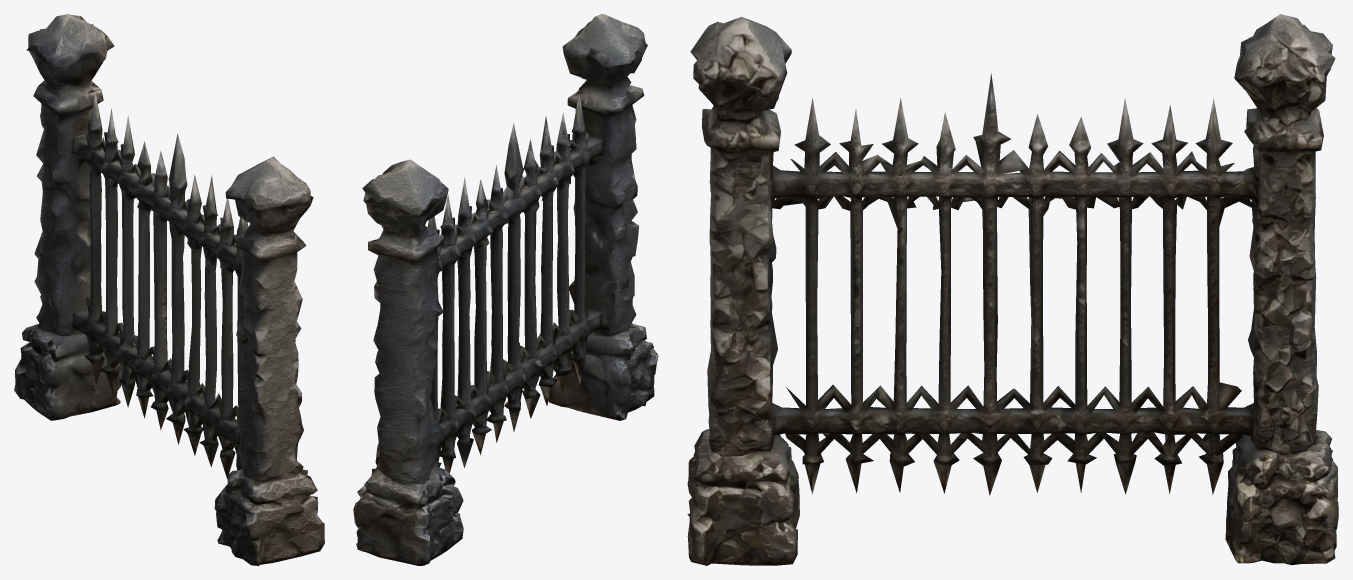
The model's file is fence.glb.
3 views of the same model, side by side, from view 1: azimuth 30°, elevation 25°; view 2: azimuth 150°, elevation 25°; view 3: azimuth 270°, elevation 25° (orthographic). The views are drawn at different scales.
Parts seen in each view (by area): view 1: tripo_node_da8fdb1d-d20f-44aa-ace3-6271251e13b6; view 2: tripo_node_da8fdb1d-d20f-44aa-ace3-6271251e13b6; view 3: tripo_node_da8fdb1d-d20f-44aa-ace3-6271251e13b6.
Part boxes in pixels (x1,y1,x2,y2): tripo_node_da8fdb1d-d20f-44aa-ace3-6271251e13b6: [14, 14, 324, 565]; tripo_node_da8fdb1d-d20f-44aa-ace3-6271251e13b6: [353, 14, 658, 565]; tripo_node_da8fdb1d-d20f-44aa-ace3-6271251e13b6: [687, 14, 1338, 565].
Bounding box in the file's own units: 0.192 × 0.8905 × 1.
Materials: 1 (1 with a texture image).
